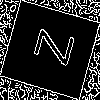Z: (24, 24, 75, 67)
